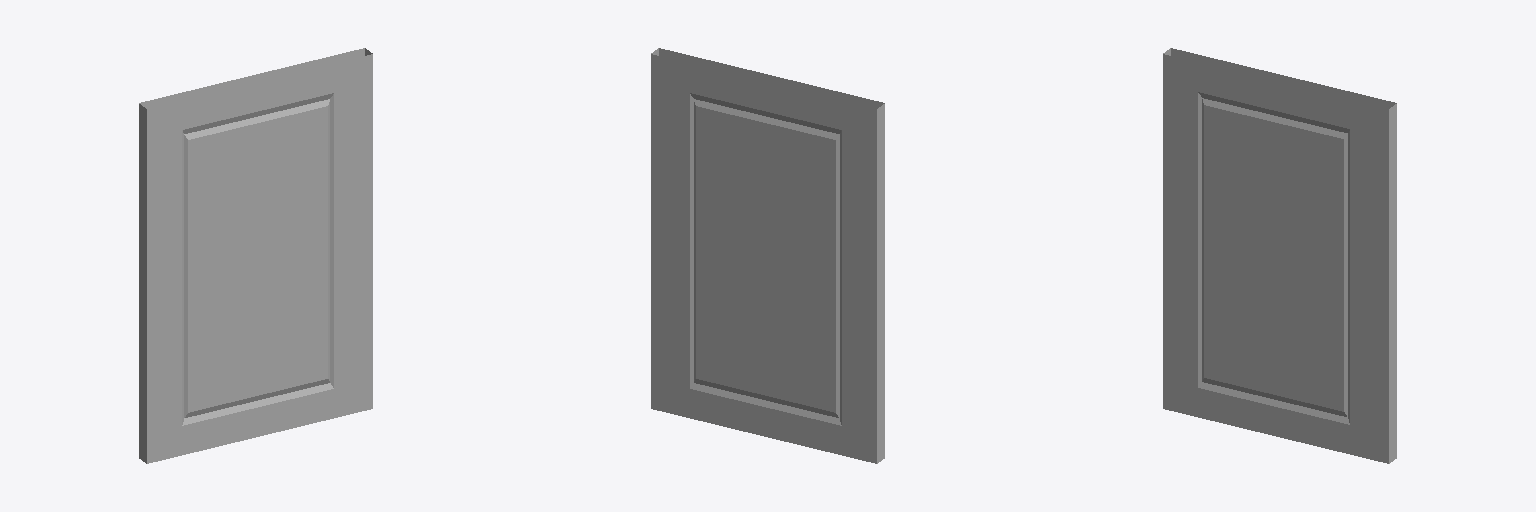
The model's file is Door 3.obj.
The picture shows the model from 3 angles: view 1: azimuth 30°, elevation 25°; view 2: azimuth 150°, elevation 25°; view 3: azimuth 330°, elevation 25°; orthographic projection.
Visible parts, largest first — view 1: Door 3; view 2: Door 3; view 3: Door 3.
Boxes of the visible parts, <box> form: Door 3: <box>139,48,372,463</box>; Door 3: <box>651,48,884,463</box>; Door 3: <box>1163,48,1396,463</box>.
Size of the model in its own units: 2 by 3 by 0.125.